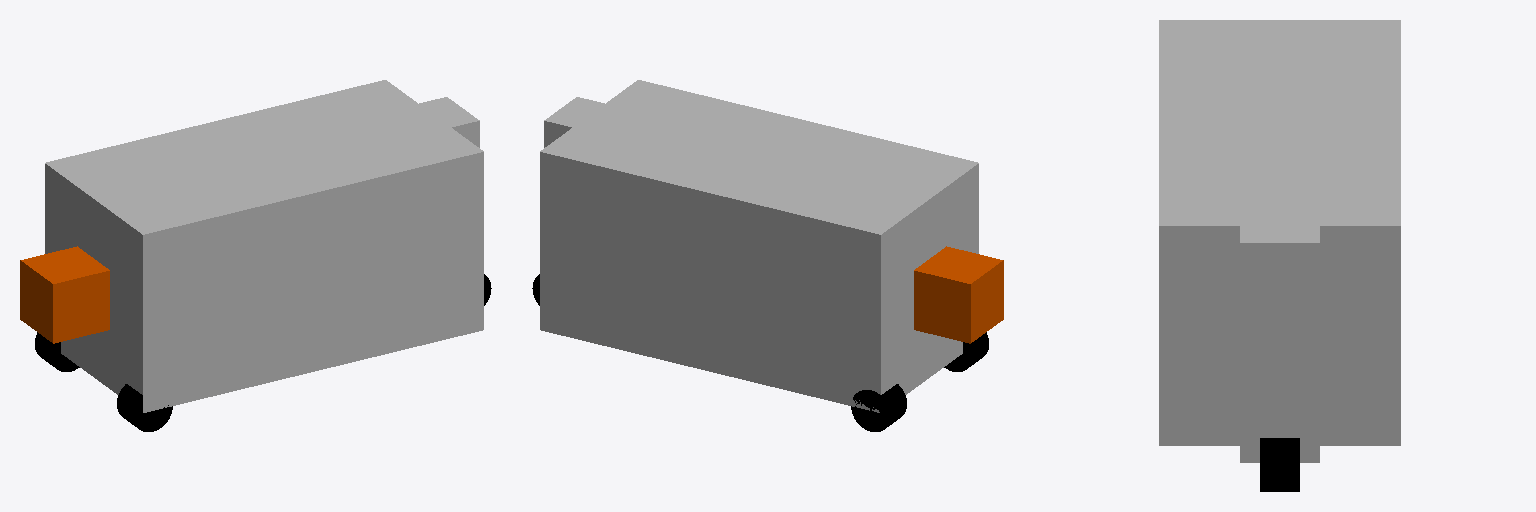
The robot description file, URDF, robot "differential_robot":
<?xml version="1.0"?>
<robot name="differential_robot">

  <link name="base_link">
    <visual>
      <geometry>
        <box size="0.6 0.3 0.3"/>
      </geometry>
      <material name="silver">
        <color rgba="0.75 0.75 0.75 1"/>
      </material>
    </visual>
    <collision>
      <geometry>
        <box size="0.6 0.3 0.3"/>
      </geometry>
    </collision>
    <inertial>
      <mass value="1.0"/>
      <inertia ixx="0.015" iyy="0.0375" izz="0.0375" ixy="0" ixz="0" iyz="0"/>
    </inertial>
  </link>

  <link name="front_caster">
    <visual>
      <geometry>
        <box size="0.1 0.1 0.3"/>
      </geometry>
      <material name="silver"/>
    </visual>
    <collision>
      <geometry>
        <box size="0.1 0.1 0.3"/>
      </geometry>
    </collision>
    <inertial>
      <mass value="0.1"/>
      <inertia ixx="0.00083" iyy="0.00083" izz="0.000167" ixy="0" ixz="0" iyz="0"/>
    </inertial>
  </link>

  <joint name="front_caster_joint" type="continuous">
    <axis xyz="0 0 1"/>
    <parent link="base_link"/>
    <child link="front_caster"/>
    <origin rpy="0 0 0" xyz="0.3 0 0"/>
  </joint>

  <link name="front_wheel">
    <visual>
      <geometry>
        <cylinder length="0.05" radius="0.035"/>
      </geometry>
      <material name="black"/>
    </visual>
    <collision>
      <geometry>
        <cylinder length="0.05" radius="0.035"/>
      </geometry>
    </collision>
    <inertial>
      <mass value="0.1"/>
      <inertia ixx="5.1458e-5" iyy="5.1458e-5" izz="6.125e-5" ixy="0" ixz="0" iyz="0"/>
    </inertial>
  </link>

  <joint name="front_wheel_joint" type="continuous">
    <axis xyz="0 0 1"/>
    <parent link="front_caster"/>
    <child link="front_wheel"/>
    <origin rpy="-1.5708 0 0" xyz="0.05 0 -.15"/>
  </joint>

  <link name="right_wheel">
    <visual>
      <geometry>
        <cylinder length="0.05" radius="0.035"/>
      </geometry>
      <material name="black">
        <color rgba="0 0 0 1"/>
      </material>
    </visual>
    <collision>
      <geometry>
        <cylinder length="0.05" radius="0.035"/>
      </geometry>
    </collision>
    <inertial>
      <mass value="0.1"/>
      <inertia ixx="5.1458e-5" iyy="5.1458e-5" izz="6.125e-5" ixy="0" ixz="0" iyz="0"/>
    </inertial>
  </link>

  <joint name="right_wheel_joint" type="continuous">
    <axis xyz="0 0 1"/>
    <parent link="base_link"/>
    <child link="right_wheel"/>
    <origin rpy="-1.5708 0 0" xyz="-0.2825 -0.125 -.15"/>
  </joint>

  <link name="left_wheel">
    <visual>
      <geometry>
        <cylinder length="0.05" radius="0.035"/>
      </geometry>
      <material name="black"/>
    </visual>
    <collision>
      <geometry>
        <cylinder length="0.05" radius="0.035"/>
      </geometry>
    </collision>
    <inertial>
      <mass value="0.1"/>
      <inertia ixx="5.1458e-5" iyy="5.1458e-5" izz="6.125e-5" ixy="0" ixz="0" iyz="0"/>
    </inertial>
  </link>

  
<joint name="left_wheel_joint" type="continuous">
    <axis xyz="0 0 1"/>
    <parent link="base_link"/>
    <child link="left_wheel"/>
    <origin rpy="-1.5708 0 0" xyz="-0.2825 0.125 -.15"/>
  </joint>



  <!-- Hokuyo Laser -->
  <link name="hokuyo_link">
    <collision>
      <origin xyz="0 0 0" rpy="0 0 0"/>
      <geometry>
    <box size="0.1 0.1 0.1"/>
      </geometry>
    </collision>

    <visual>
      <origin xyz="0 0 0" rpy="0 0 0"/>
      <geometry>
       <box size="0.1 0.1 0.1"/>
      </geometry>
    </visual>

    <inertial>
      <mass value="1e-5" />
      <origin xyz="0 0 0" rpy="0 0 0"/>
      <inertia ixx="1e-6" ixy="0" ixz="0" iyy="1e-6" iyz="0" izz="1e-6" />
    </inertial>
  </link>

  <joint name="hokuyo_joint" type="fixed">
    <axis xyz="0 1 0" />
    <origin xyz="-0.35 0 0" rpy="0 0 3.14159"/>
    <parent link="base_link"/>
    <child link="hokuyo_link"/>
  </joint>

<!--<transmission name="right_wheel_transmission">
  <type>transmission_interface/SimpleTransmission</type>
  <joint name="right_wheel_joint">
    <hardwareInterface>hardware_interface/VelocityJointInterface</hardwareInterface>  
  </joint>
  <actuator name="right_wheel_actuator">
    <mechanicalReduction>1</mechanicalReduction>
    <hardwareInterface>VelocityJointInterface</hardwareInterface>
  </actuator>
</transmission>

<transmission name="left_wheel_transmission">
  <type>transmission_interface/SimpleTransmission</type>
  <joint name="left_wheel_joint">
    <hardwareInterface>hardware_interface/VelocityJointInterface</hardwareInterface>  
  </joint>
  <actuator name="left_wheel_actuator">
    <mechanicalReduction>1</mechanicalReduction>
    <hardwareInterface>VelocityJointInterface</hardwareInterface>
  </actuator>
</transmission>-->


<gazebo>
    <plugin name="differential_drive_controller" filename="libgazebo_ros_diff_drive.so">
      <leftJoint>right_wheel_joint</leftJoint>
      <rightJoint>left_wheel_joint</rightJoint>
      <robotBaseFrame>base_link</robotBaseFrame>
      <wheelSeparation>0.25</wheelSeparation>
      <wheelDiameter>0.07</wheelDiameter>
      <publishWheelJointState>true</publishWheelJointState>
    </plugin>
  </gazebo>

  <gazebo>
    <plugin name="joint_state_publisher" filename="libgazebo_ros_joint_state_publisher.so">
      <jointName>front_caster_joint, front_wheel_joint</jointName>
    </plugin>
  </gazebo>

  <!--<gazebo>
  <plugin name="gazebo_ros_control" filename="libgazebo_ros_control.so">
  </plugin>
</gazebo>-->

 <!--<gazebo>
  <plugin name="joint_state_publisher" filename="libgazebo_ros_joint_state_publisher.so">
  <jointName>front_caster_joint, front_wheel_joint</jointName>
  </plugin>
</gazebo>-->

  <!-- hokuyo -->
  <gazebo reference="hokuyo_link">
    <sensor type="ray" name="head_hokuyo_sensor">
      <pose>0 0 0 0 0 0</pose>
      <visualize>false</visualize>
      <update_rate>40</update_rate>
      <ray>
        <scan>
          <horizontal>
            <samples>720</samples>
            <resolution>1</resolution>
            <min_angle>-1.570796</min_angle>
            <max_angle>1.570796</max_angle>
          </horizontal>
        </scan>
        <range>
          <min>0.10</min>
          <max>30.0</max>
          <resolution>0.01</resolution>
        </range>
        <noise>
          <type>gaussian</type>
          <!-- Noise parameters based on published spec for Hokuyo laser
               achieving "+-30mm" accuracy at range < 10m.  A mean of 0.0m and
               stddev of 0.01m will put 99.7% of samples within 0.03m of the true
               reading. -->
          <mean>0.0</mean>
          <stddev>0.01</stddev>
        </noise>
      </ray>
      <plugin name="gazebo_ros_head_hokuyo_controller" filename="libgazebo_ros_laser.so">
        <topicName>/laser/scan</topicName>
        <frameName>hokuyo_link</frameName>
      </plugin>
    </sensor>
  </gazebo>

</robot>

--- Facts derived from the render (not from the file) ---
Views: 3 orthographic renders of the robot side by side, from view 1: azimuth 30°, elevation 25°; view 2: azimuth 150°, elevation 25°; view 3: azimuth 270°, elevation 25°.
Model differential_robot with 6 links and 5 joints (4 continuous, 1 fixed), rooted at base_link, posed every joint at zero.
Links seen in each view (by area): view 1: base_link, hokuyo_link, front_caster, right_wheel, left_wheel; view 2: base_link, hokuyo_link, front_caster, left_wheel, right_wheel; view 3: base_link, front_caster, front_wheel.
Boxes of the visible links, left/top/right/bottom form: base_link: left=45, top=80, right=483, bottom=412; hokuyo_link: left=20, top=246, right=109, bottom=343; front_caster: left=392, top=97, right=479, bottom=147; right_wheel: left=117, top=384, right=172, bottom=431; left_wheel: left=35, top=332, right=79, bottom=371; base_link: left=540, top=80, right=978, bottom=412; hokuyo_link: left=914, top=246, right=1003, bottom=343; front_caster: left=544, top=97, right=633, bottom=147; left_wheel: left=851, top=384, right=906, bottom=431; right_wheel: left=944, top=332, right=988, bottom=371; base_link: left=1159, top=20, right=1400, bottom=445; front_caster: left=1240, top=209, right=1319, bottom=462; front_wheel: left=1260, top=438, right=1299, bottom=491.
Bounding box of the posed robot: 0.785 × 0.3 × 0.335 m (x, y, z).
Geometry: primitives only (box / cylinder / sphere), no mesh files.
